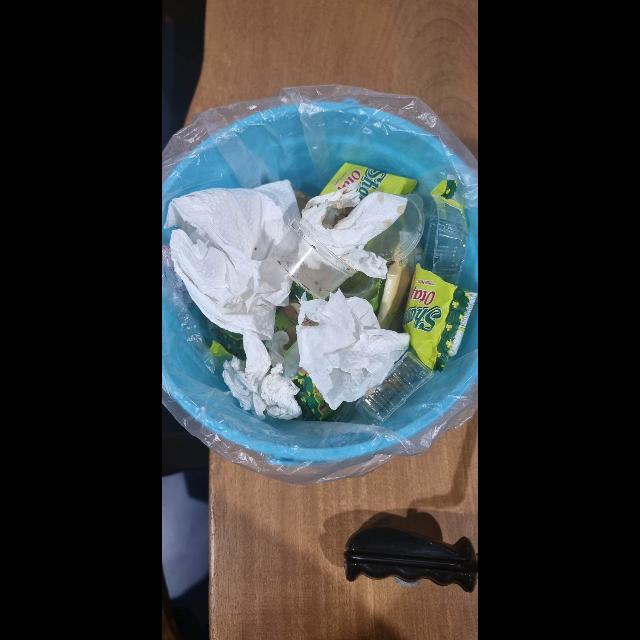paper: (163, 180, 301, 339), (296, 289, 411, 410), (300, 183, 408, 280), (222, 329, 302, 420)
plastic: (274, 221, 358, 302)
wrapper: (403, 263, 479, 373), (320, 163, 418, 200)
